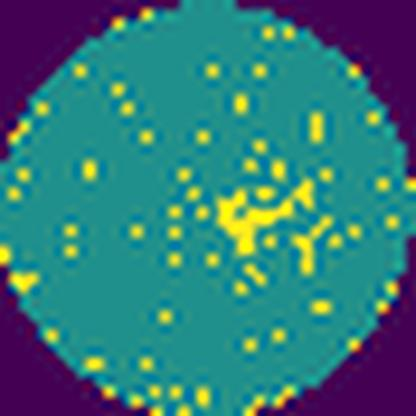Loc: (214, 180, 316, 253)
